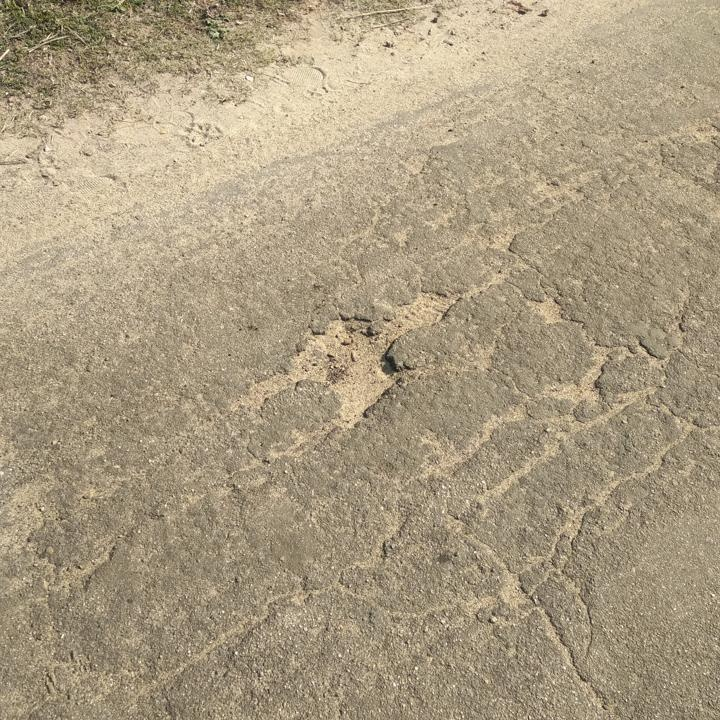pothole: (243, 286, 460, 429)
